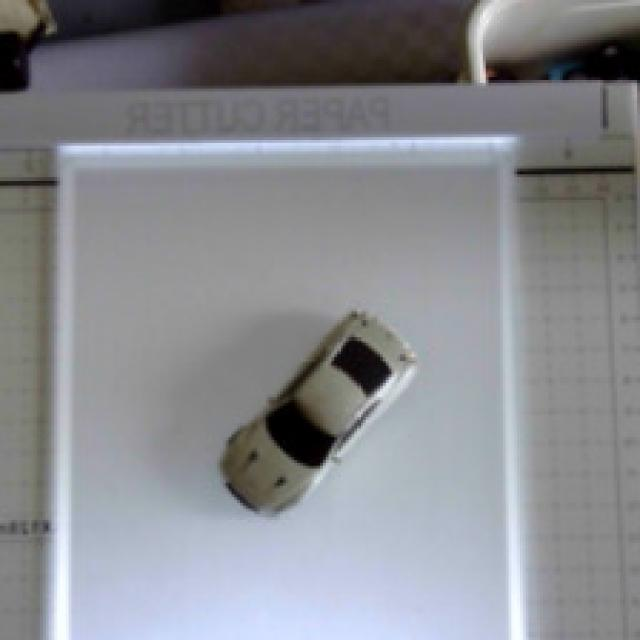Grey Car: (194, 282, 436, 554)
